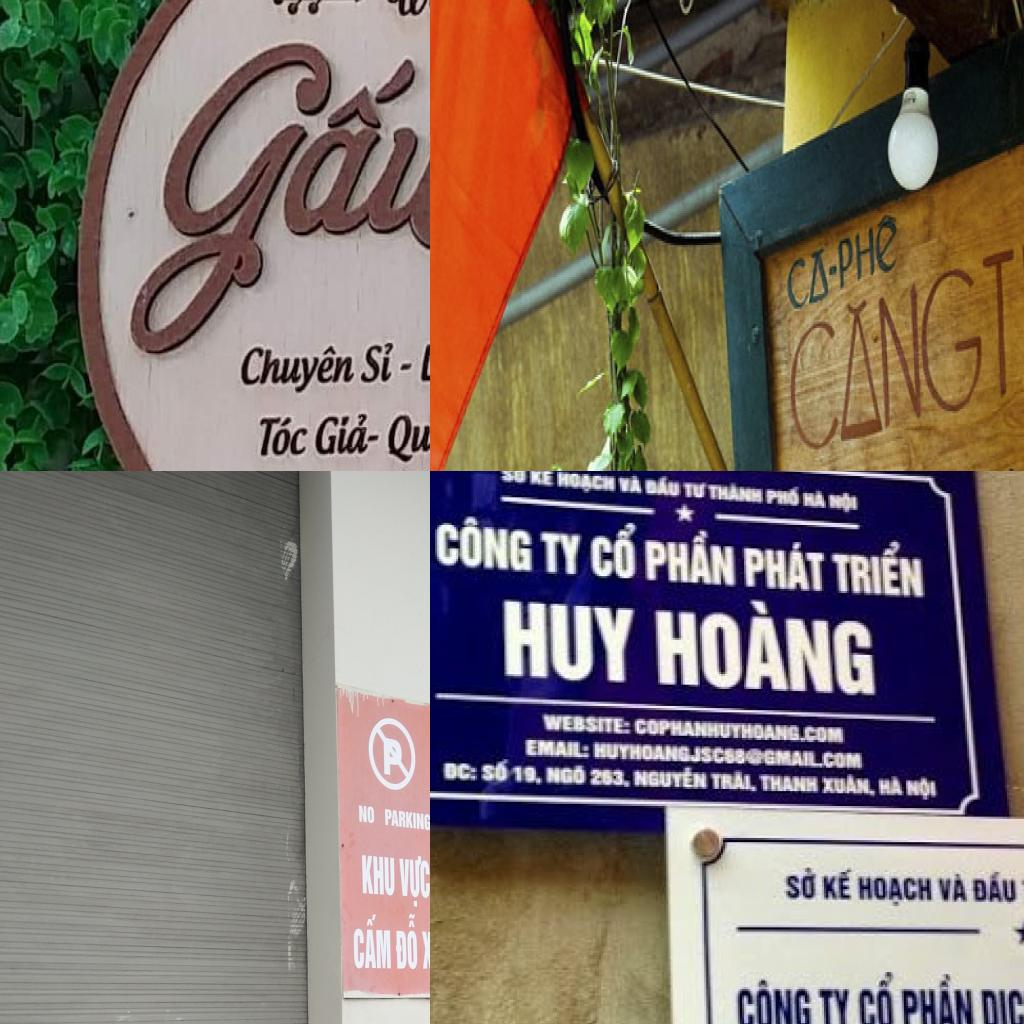text: (100, 38, 430, 361), (784, 202, 1024, 464), (649, 595, 883, 702), (785, 202, 900, 318), (498, 595, 635, 691), (593, 742, 864, 772), (635, 716, 849, 748), (238, 345, 356, 400), (430, 514, 534, 575), (643, 529, 742, 593), (830, 542, 927, 602), (742, 538, 830, 597), (729, 972, 815, 1024), (899, 972, 977, 1024), (856, 868, 936, 912), (589, 518, 641, 584), (381, 400, 430, 467), (316, 410, 382, 457), (347, 908, 393, 970), (254, 412, 311, 462), (538, 527, 586, 580), (855, 968, 899, 1024), (358, 336, 399, 387), (632, 766, 710, 791), (975, 986, 1024, 1024), (357, 850, 396, 897), (544, 716, 633, 736), (396, 853, 430, 905), (778, 864, 820, 906), (392, 910, 420, 972), (973, 868, 1020, 904), (820, 774, 878, 802), (708, 480, 765, 508), (813, 982, 851, 1024), (761, 774, 822, 800), (559, 472, 616, 497), (710, 768, 759, 795), (523, 740, 591, 759), (820, 866, 855, 902), (382, 807, 430, 832), (590, 768, 634, 795), (906, 776, 942, 808), (442, 759, 482, 787), (938, 870, 969, 904), (380, 736, 402, 781), (546, 763, 588, 785), (830, 491, 870, 514), (765, 485, 803, 508), (481, 757, 511, 785), (415, 336, 430, 387), (879, 772, 906, 800), (513, 763, 544, 787), (645, 476, 679, 497), (618, 476, 643, 499), (683, 478, 708, 500), (803, 489, 826, 512), (529, 471, 554, 490), (498, 471, 529, 486), (357, 802, 375, 824), (420, 930, 430, 969)
